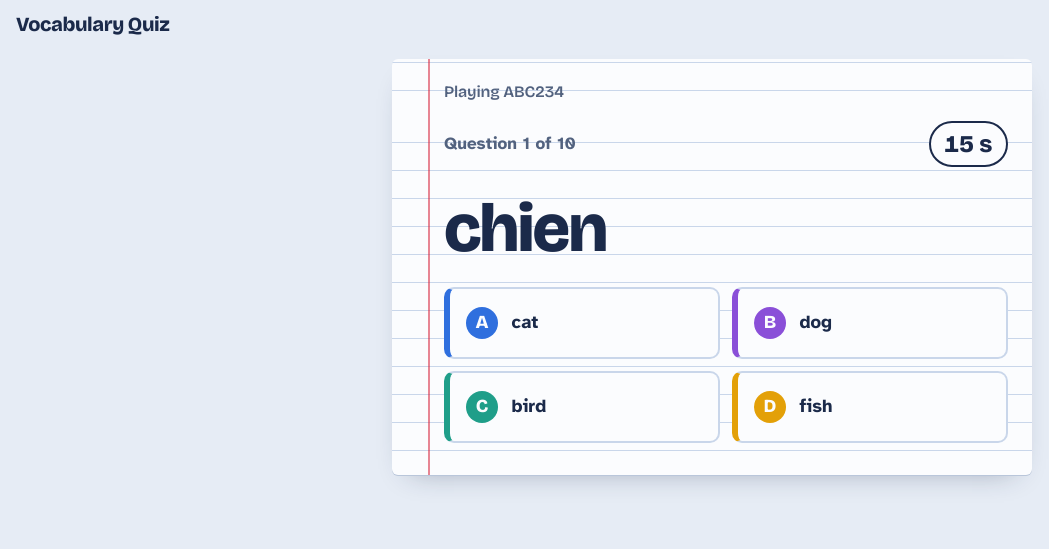
Scenario: Player view (AC32) › keeps the options disabled after a final rejection (AlreadyAnswered)
Click the button "cat": (525, 322) [444,287,720,359]
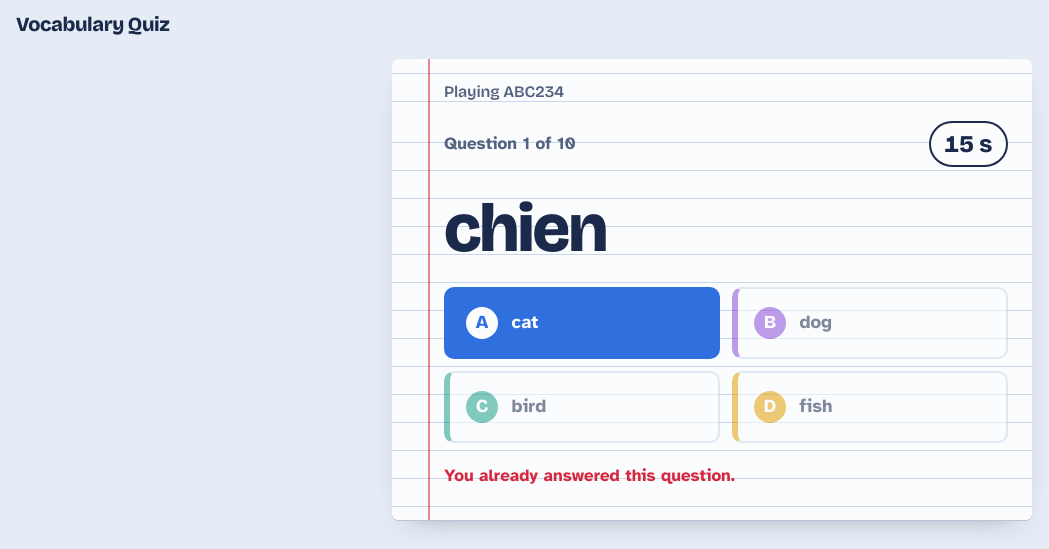
Expected: the message "You already answered this question." is shown, [444,465,735,486]
Expected: the button "cat" is disabled, [444,287,720,359]
Expected: the button "dog" is disabled, [732,287,1008,359]
